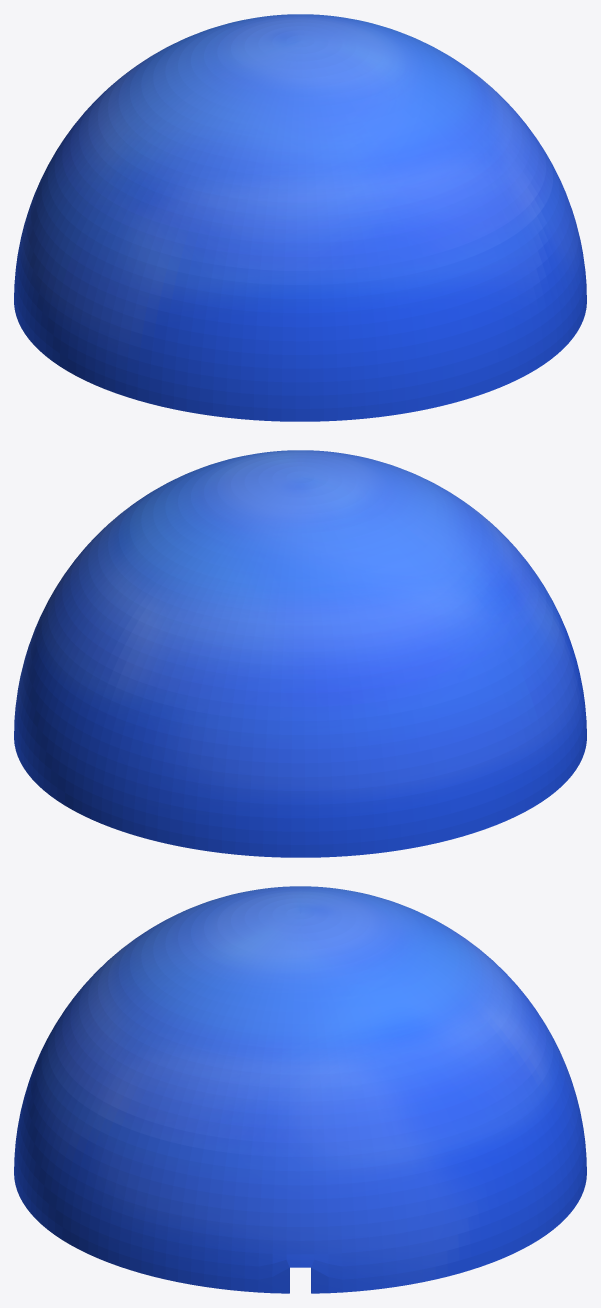
File: DomeV6.fbx
The picture shows the model from 3 angles, top to bottom: view 1: azimuth 30°, elevation 25°; view 2: azimuth 150°, elevation 25°; view 3: azimuth 270°, elevation 25°; orthographic projection.
Parts seen in each view (by area): view 1: Dome; view 2: Dome; view 3: Dome.
Boxes of the visible parts, x1,y1,x2,y2 form: Dome: (14, 14, 586, 421); Dome: (14, 450, 586, 857); Dome: (14, 886, 586, 1293).
Bounding box in the file's own units: 3998 × 2000 × 4000.
Materials: 1 (1 with a texture image).
